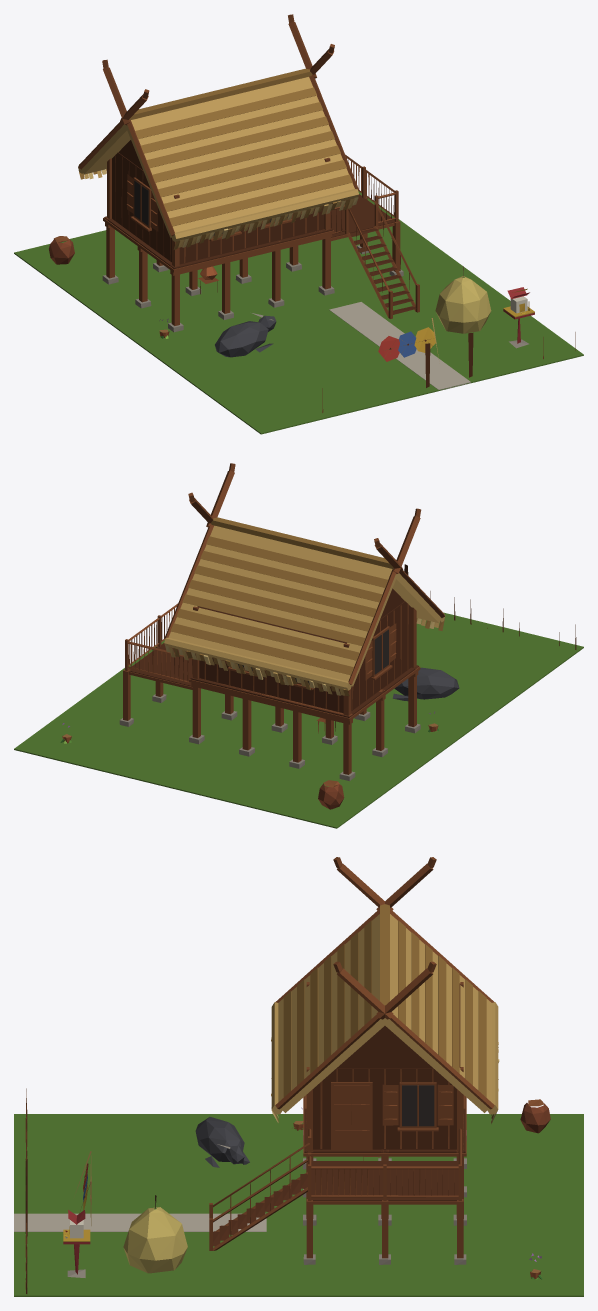
Rendered from house12_1.glb.
The picture shows the model from 3 angles, top to bottom: view 1: azimuth 30°, elevation 25°; view 2: azimuth 150°, elevation 25°; view 3: azimuth 270°, elevation 25°; orthographic projection. The views are drawn at different scales.
Parts seen in each view (by area): view 1: body, windows; view 2: body, windows; view 3: body, windows.
Boxes of the visible parts, box(x1,y1,x2,y2) form: body: box(14, 14, 583, 434); windows: box(134, 180, 288, 235); body: box(14, 463, 583, 828); windows: box(236, 629, 388, 684); body: box(14, 857, 583, 1296); windows: box(402, 1085, 434, 1126).
Size of the model in its own units: 12 by 8.57 by 15.9.
